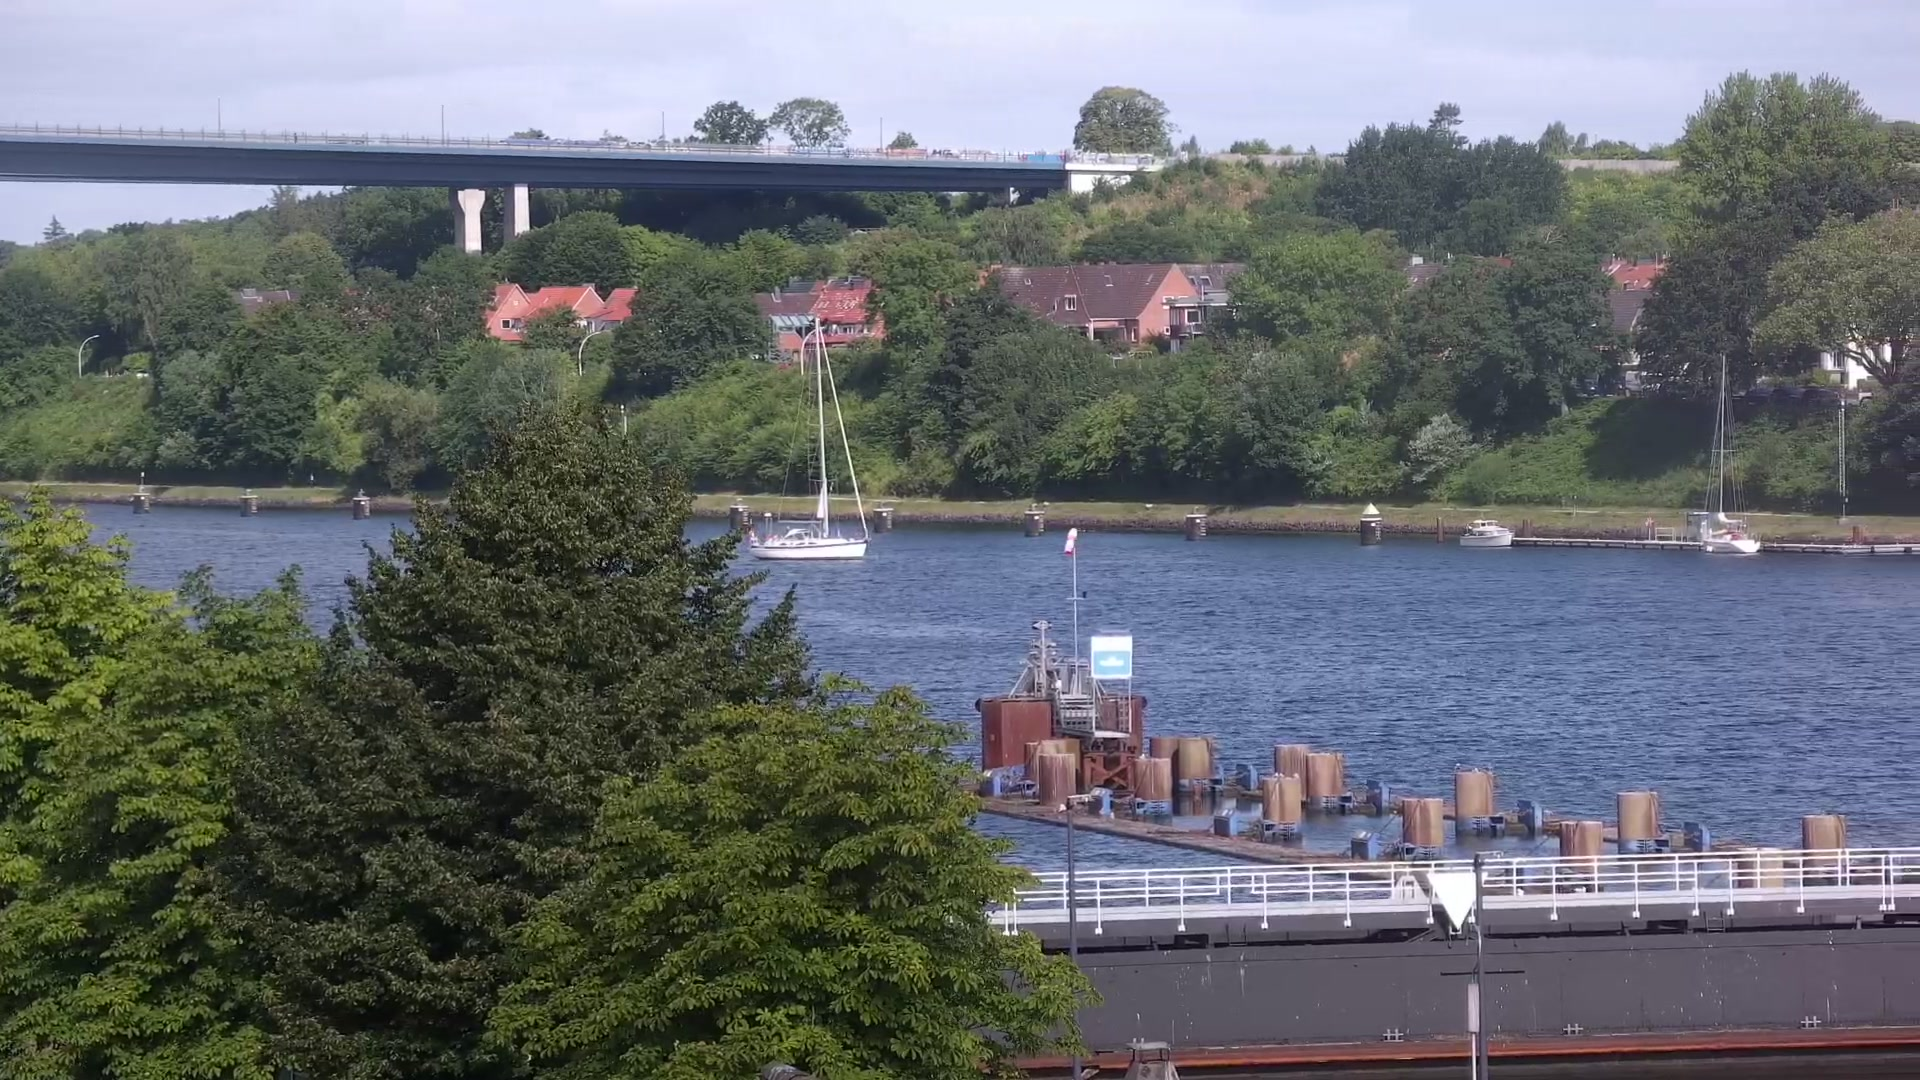sea: (746, 316, 872, 559), (1697, 356, 1760, 554), (1458, 518, 1514, 546)
